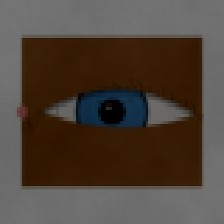hemorrhage_spot: (70, 78, 142, 135)
